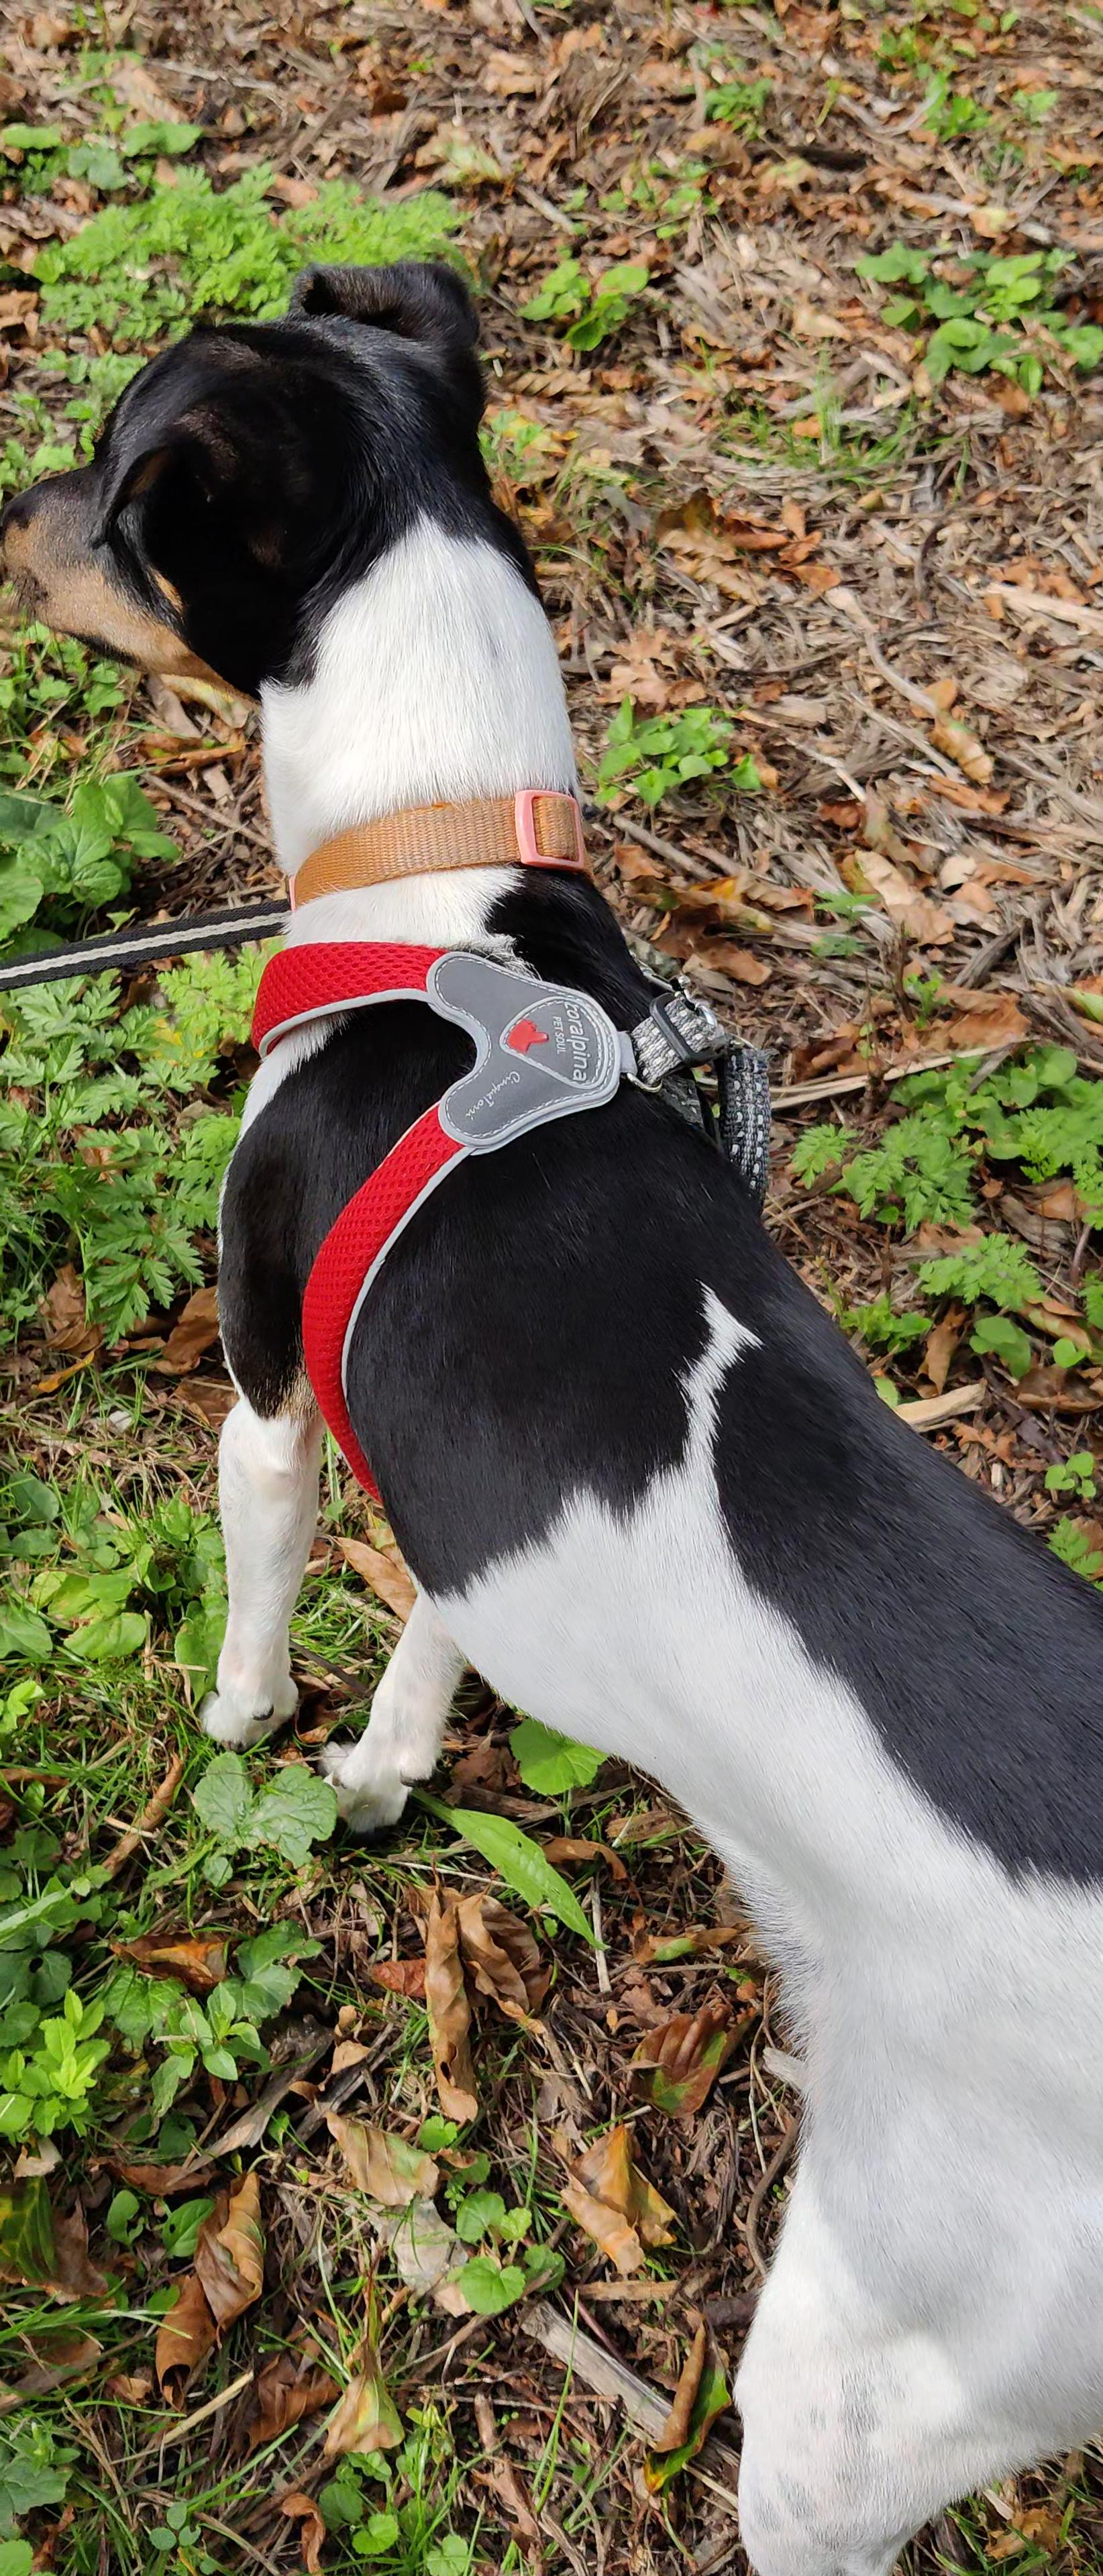Dog: (0, 248, 1103, 2576)
